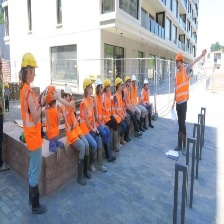helmet: (21, 54, 39, 72), (46, 86, 58, 103), (83, 78, 92, 91), (63, 85, 73, 96), (104, 78, 111, 87), (175, 54, 185, 60), (115, 78, 122, 86), (96, 79, 103, 86), (131, 75, 137, 82), (143, 80, 150, 86)
person: (18, 52, 51, 219), (62, 84, 90, 182), (80, 80, 103, 171), (174, 54, 194, 156), (112, 76, 132, 145), (95, 75, 111, 158), (45, 85, 63, 158), (141, 79, 152, 128), (131, 72, 140, 124)
vest: (22, 86, 42, 147), (62, 105, 81, 140), (46, 106, 60, 141), (177, 69, 189, 106), (83, 96, 91, 133), (115, 93, 124, 120), (97, 96, 104, 127)
